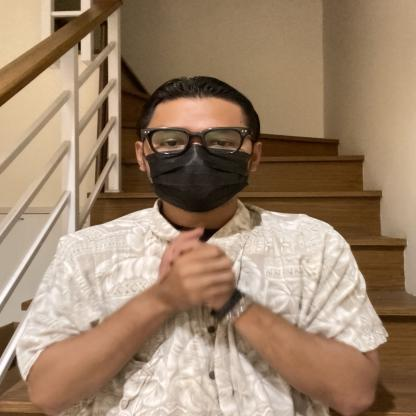Grieve: (89, 216, 312, 328)
